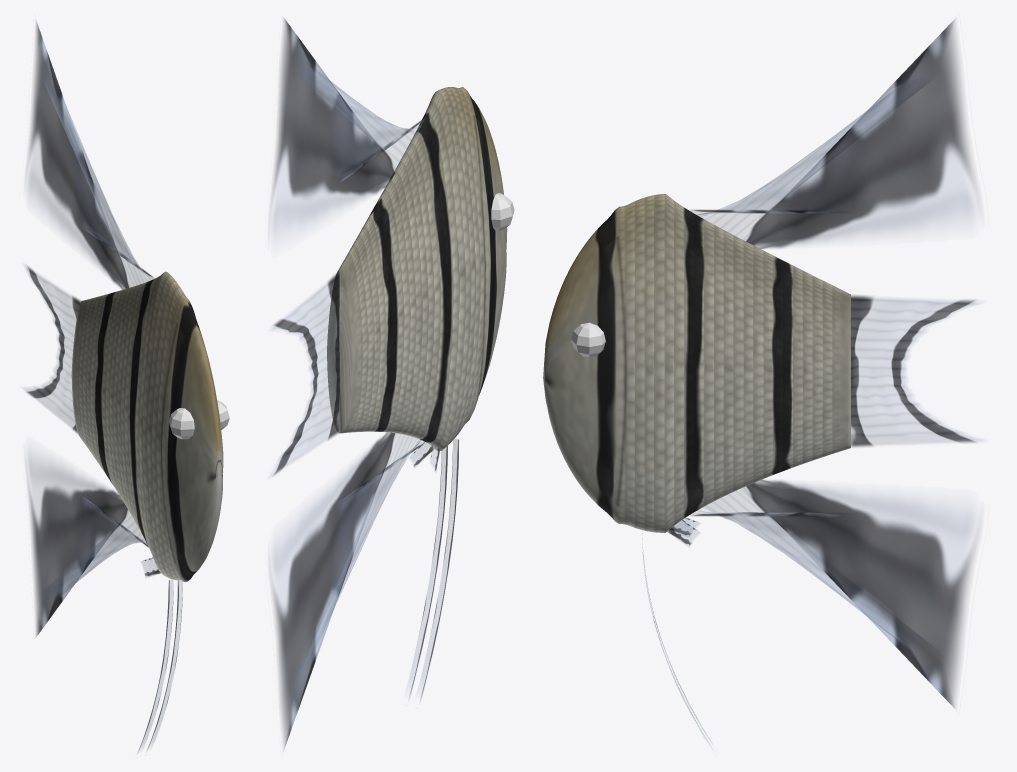
File: angelfish.glb
3 renders of one model, left to right at view 1: azimuth 30°, elevation 25°; view 2: azimuth 150°, elevation 25°; view 3: azimuth 270°, elevation 25°, orthographic. The views are drawn at different scales.
Parts seen in each view (by area): view 1: Body, Fins, EyeL; view 2: Body, Fins, EyeL; view 3: Body, Fins, EyeR.
Part boxes in pixels (<box>): Body: <box>71,271,223,582</box>; Fins: <box>25,21,182,751</box>; EyeL: <box>169,408,194,439</box>; Body: <box>327,87,507,450</box>; Fins: <box>271,18,458,748</box>; EyeL: <box>491,193,514,231</box>; Body: <box>543,194,850,532</box>; Fins: <box>642,20,979,744</box>; EyeR: <box>571,322,605,357</box>.
Size of the model in its own units: 0.1486 by 1.64 by 0.9221.
2 materials, 2 textured.
